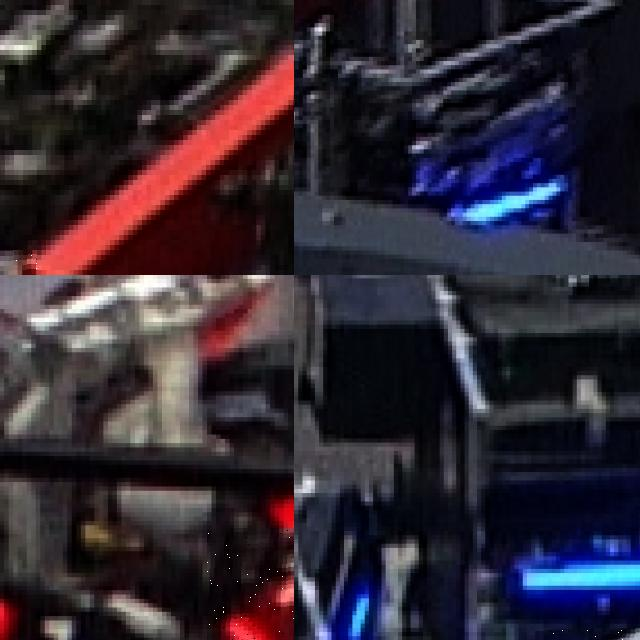R1: (206, 527, 294, 640), (0, 581, 155, 640)
